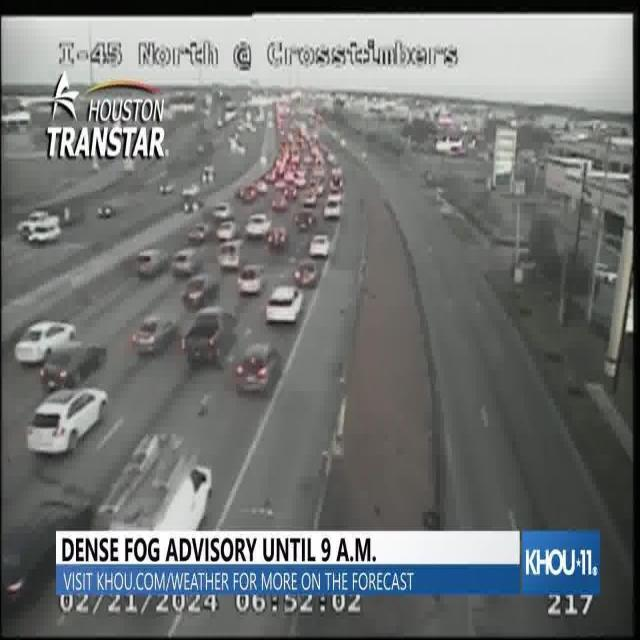Car: (98, 438, 212, 534), (2, 499, 95, 608), (28, 385, 108, 454), (232, 333, 284, 400), (40, 344, 105, 390), (184, 305, 232, 367), (15, 319, 77, 365), (132, 314, 178, 355), (266, 284, 303, 323), (181, 272, 218, 310), (136, 248, 166, 278), (172, 247, 202, 277), (26, 219, 61, 244), (237, 264, 263, 296), (217, 241, 241, 271), (246, 213, 272, 239), (294, 260, 318, 288), (594, 262, 618, 286), (267, 227, 288, 254), (308, 234, 330, 259), (187, 224, 210, 247), (215, 219, 238, 242), (296, 210, 316, 231), (212, 203, 232, 223), (323, 200, 342, 221), (238, 184, 259, 203), (272, 192, 290, 212), (181, 183, 201, 200), (302, 189, 319, 209), (183, 197, 201, 214), (327, 190, 342, 208), (202, 165, 216, 184), (97, 204, 114, 219), (254, 178, 269, 195), (158, 182, 175, 194), (196, 142, 206, 156)
